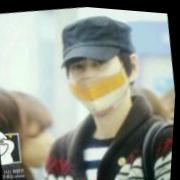WRONG: (62, 37, 134, 119)
